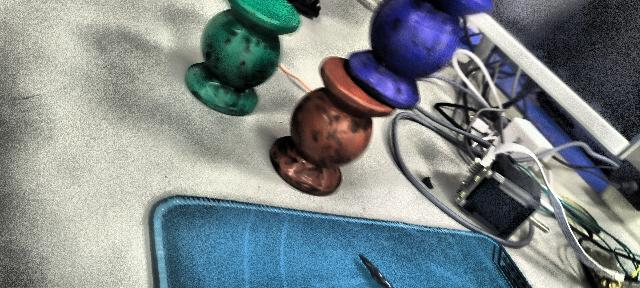blue: (345, 0, 511, 104)
green: (180, 1, 304, 120)
red: (274, 65, 382, 211)
